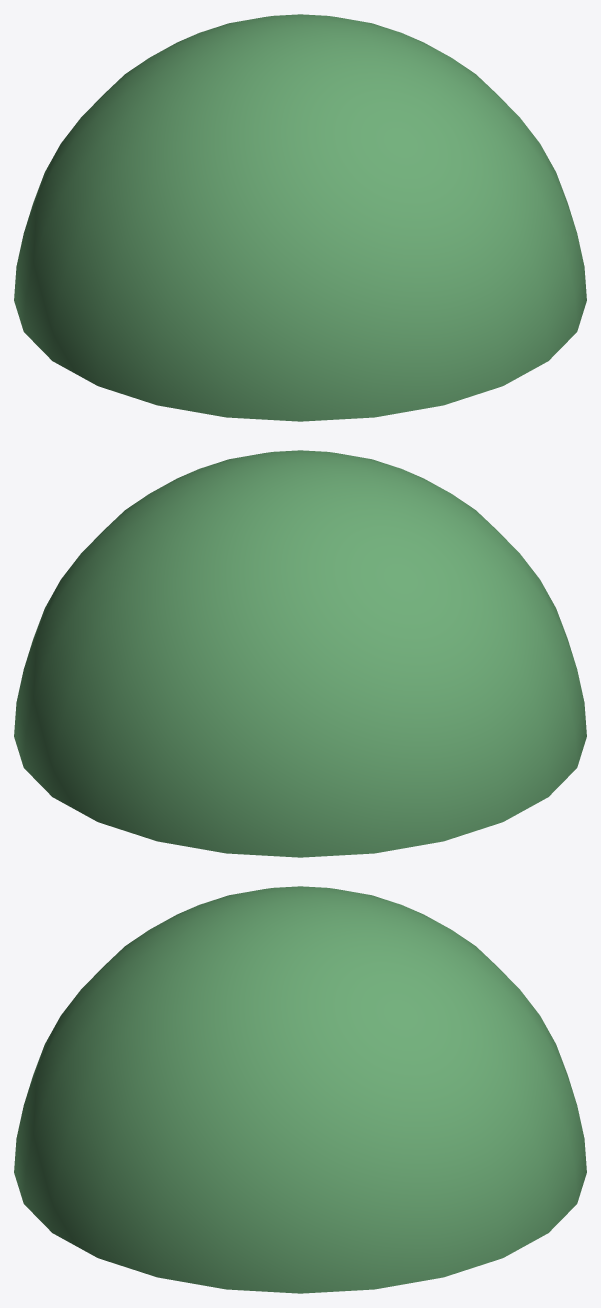
File: shrub.gltf
3 renders of one model, top to bottom at view 1: azimuth 30°, elevation 25°; view 2: azimuth 150°, elevation 25°; view 3: azimuth 270°, elevation 25°, orthographic.
Parts seen in each view (by area): view 1: Shrub; view 2: Shrub; view 3: Shrub.
Boxes of the visible parts, x1=… form: Shrub: x1=14, y1=14, x2=586, y2=421; Shrub: x1=14, y1=450, x2=586, y2=857; Shrub: x1=14, y1=886, x2=586, y2=1293.
Bounding box in the file's own units: 1.2 × 0.6 × 1.2.
